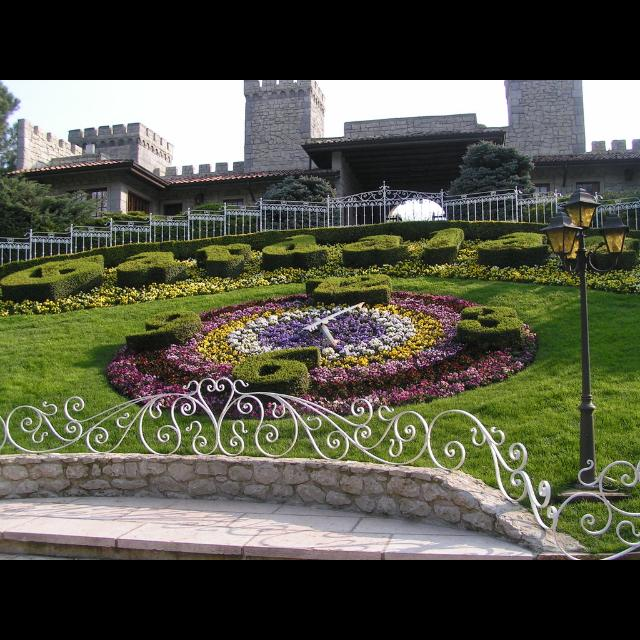Flower: (110, 288, 536, 392)
